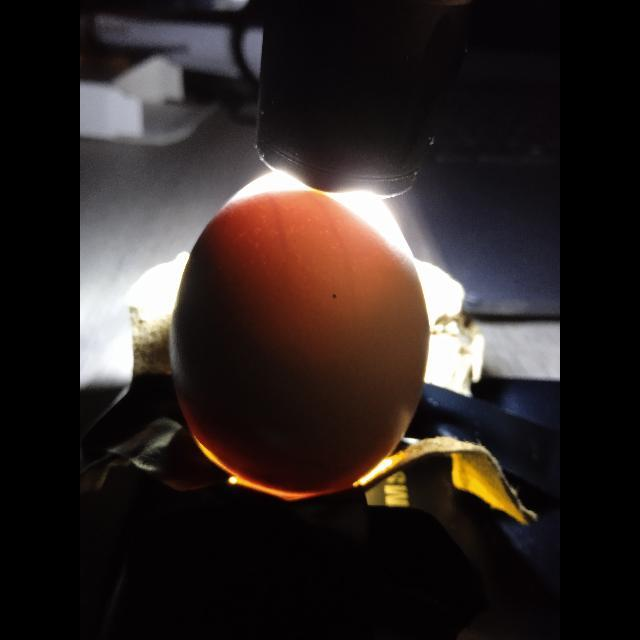Fertile: (169, 178, 431, 502)
